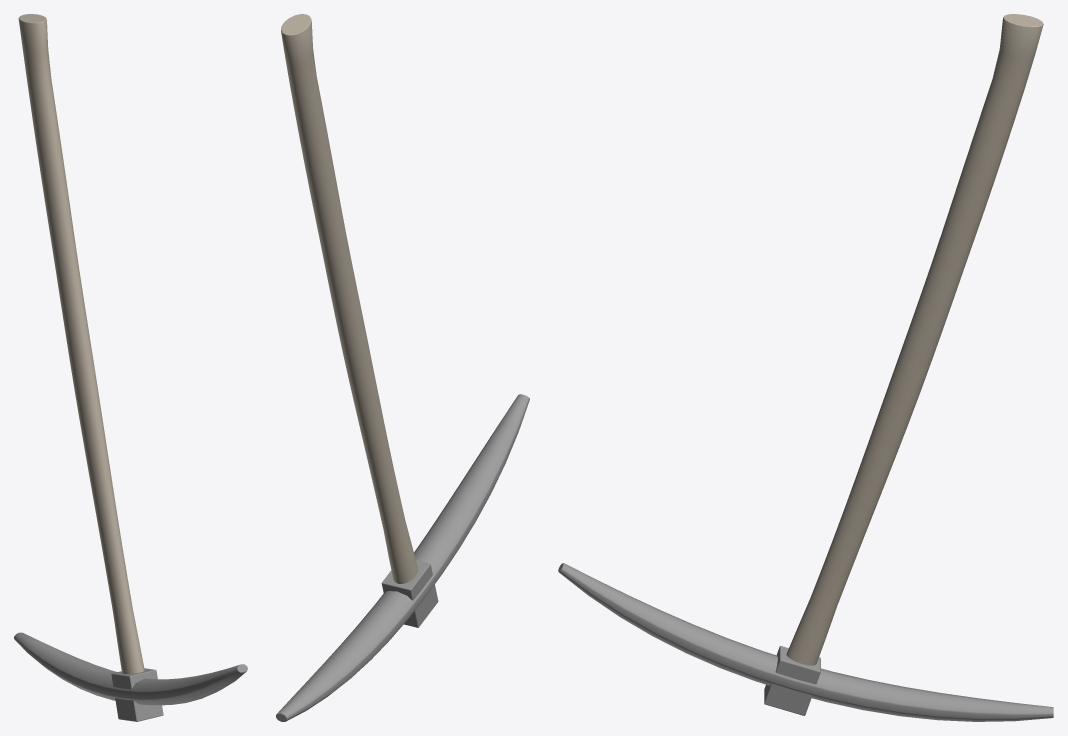
File: pickaxe_leaning.glb
The picture shows the model from 3 angles, left to right: view 1: azimuth 30°, elevation 25°; view 2: azimuth 150°, elevation 25°; view 3: azimuth 270°, elevation 25°; orthographic projection. The views are drawn at different scales.
Parts seen in each view (by area): view 1: pickaxe; view 2: pickaxe; view 3: pickaxe.
Part boxes in pixels (left/top/right/bottom): pickaxe: left=14, top=14, right=247, bottom=721; pickaxe: left=276, top=14, right=529, bottom=721; pickaxe: left=558, top=14, right=1053, bottom=721.
Bounding box in the file's own units: 0.0437 × 0.8977 × 0.5736.
